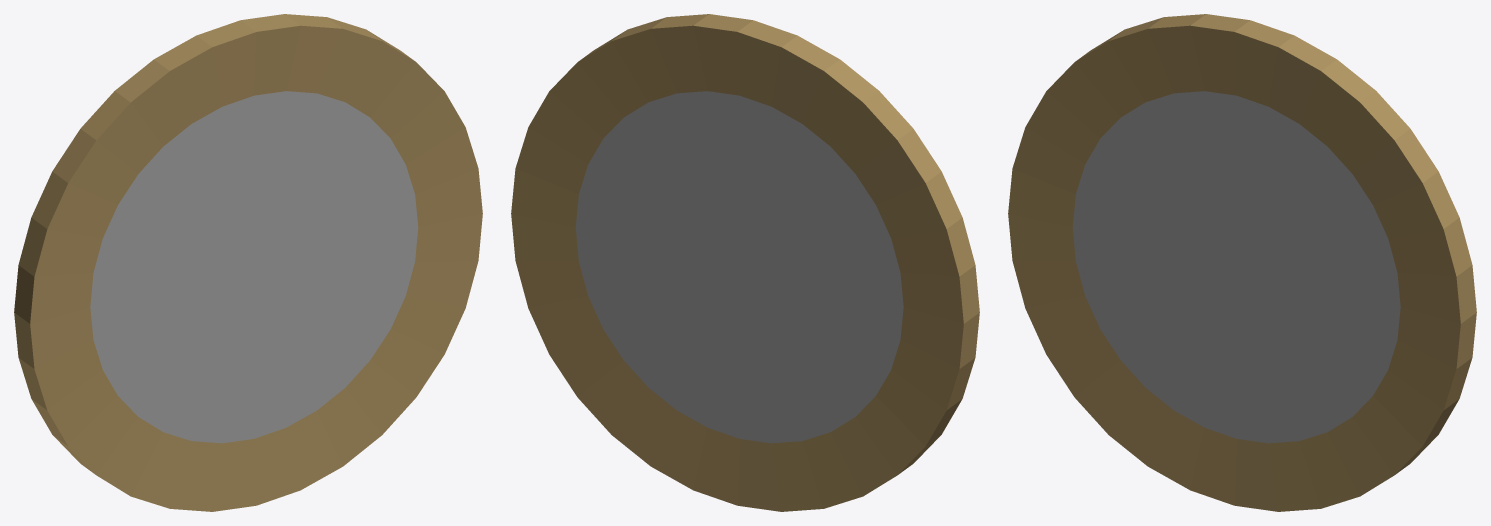
Rendered from coin.fbx.
3 views of the same model, side by side, from view 1: azimuth 30°, elevation 25°; view 2: azimuth 150°, elevation 25°; view 3: azimuth 330°, elevation 25° (orthographic).
Parts seen in each view (by area): view 1: Circle; view 2: Circle; view 3: Circle.
Boxes of the visible parts, x1,y1,x2,y2 form: Circle: (14, 14, 482, 511); Circle: (511, 14, 979, 511); Circle: (1008, 14, 1476, 511).
Size of the model in its own units: 200 by 200 by 12.27.
